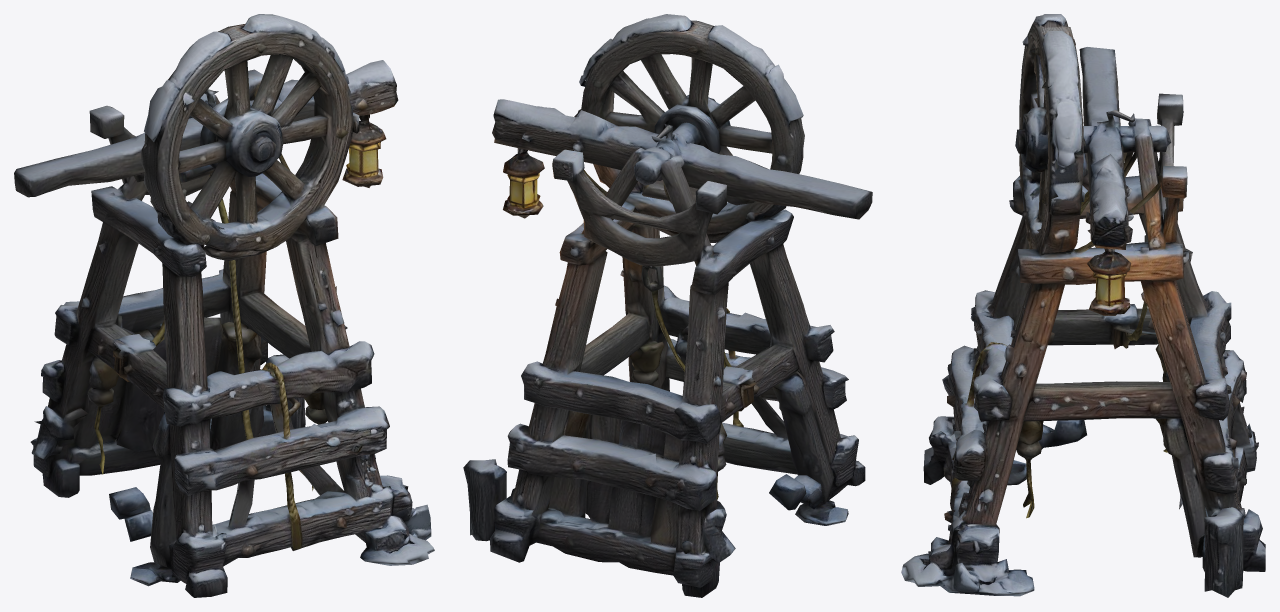
File: mine_headframe.glb
The picture shows the model from 3 angles, left to right: view 1: azimuth 30°, elevation 25°; view 2: azimuth 150°, elevation 25°; view 3: azimuth 270°, elevation 25°; orthographic projection. The views are drawn at different scales.
Visible parts, largest first — view 1: node_77c16b3d-07a4-4d44-9616-9a4612e8c8d6; view 2: node_77c16b3d-07a4-4d44-9616-9a4612e8c8d6; view 3: node_77c16b3d-07a4-4d44-9616-9a4612e8c8d6.
Boxes of the visible parts, x1,y1,x2,y2 form: node_77c16b3d-07a4-4d44-9616-9a4612e8c8d6: [14, 14, 434, 597]; node_77c16b3d-07a4-4d44-9616-9a4612e8c8d6: [463, 14, 872, 597]; node_77c16b3d-07a4-4d44-9616-9a4612e8c8d6: [901, 14, 1265, 597].
Size of the model in its own units: 0.7722 by 1 by 0.6572.
Materials: 1 (1 with a texture image).
